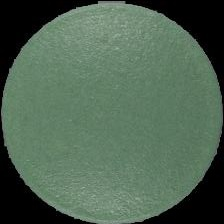67046-010: (0, 0, 224, 224)
